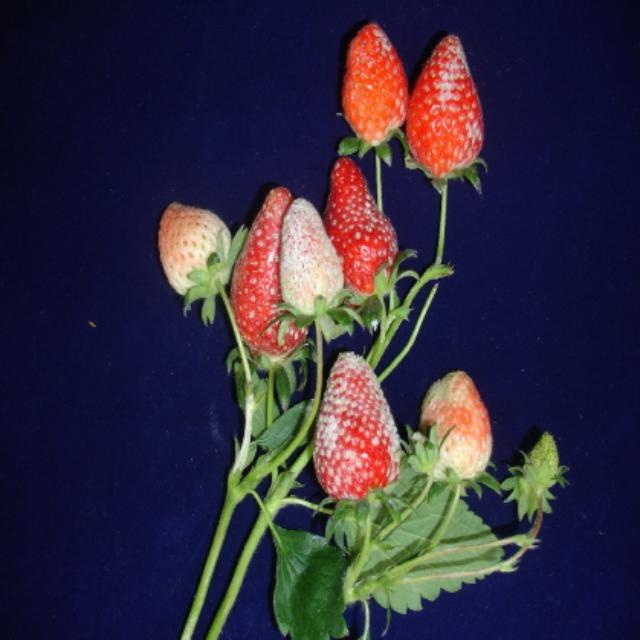Powdery Mildew Fruit: (230, 186, 312, 367), (312, 351, 404, 512), (403, 33, 484, 184), (322, 155, 399, 304), (341, 21, 407, 149), (280, 196, 345, 319)
